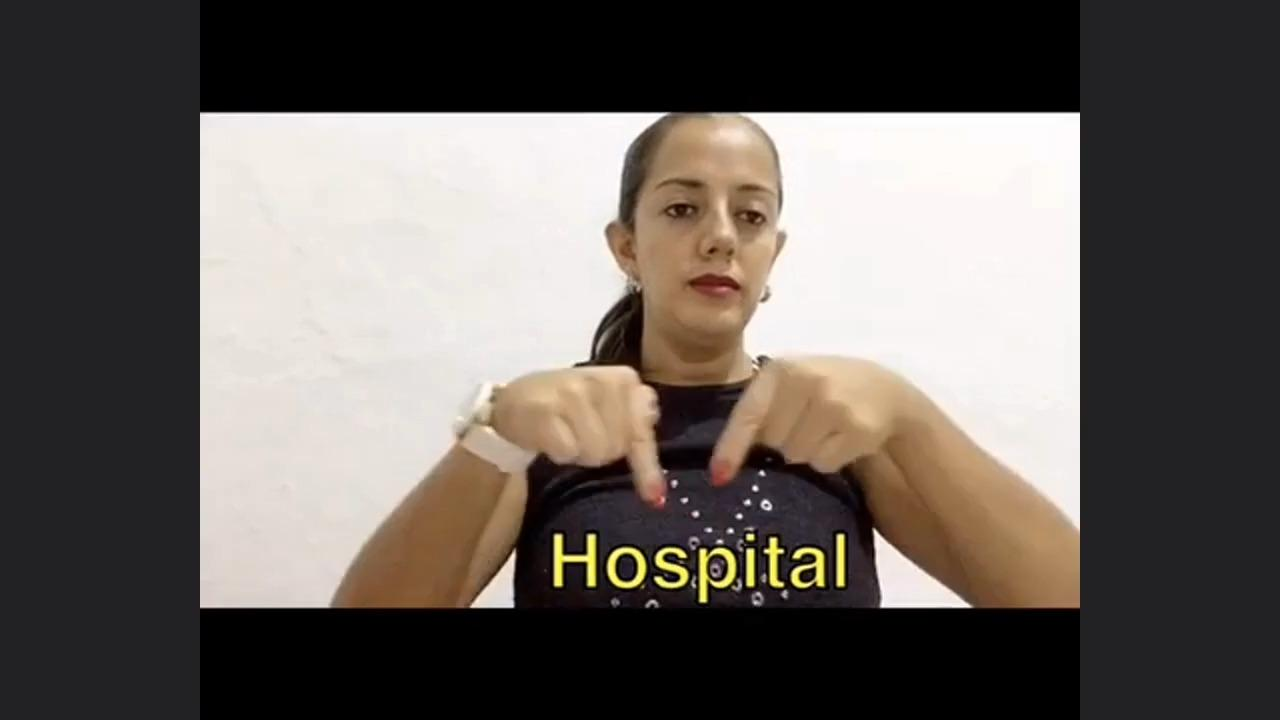Hospital: (452, 348, 966, 518)
